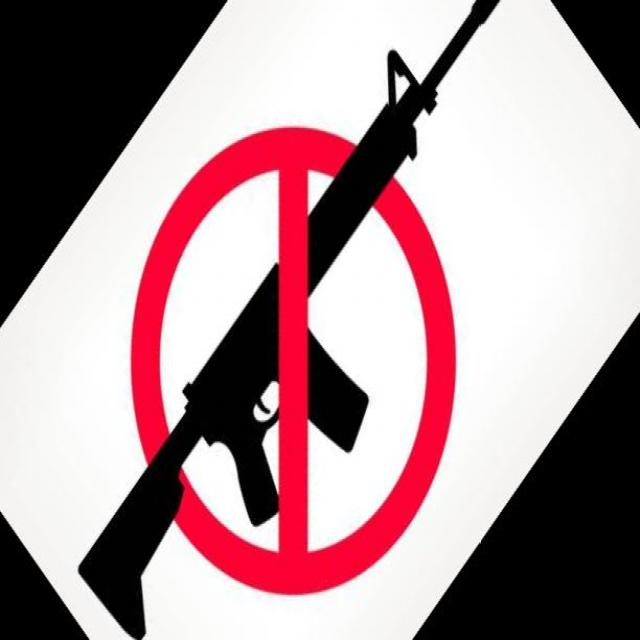heavy-weapon: (76, 1, 500, 640)
